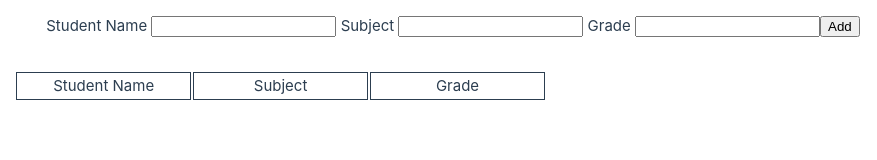
Test: App › Test student name, subject and grade
Step 1. Type "Pedro" into the field with id "name" → [244, 26], box [151,16,336,37]
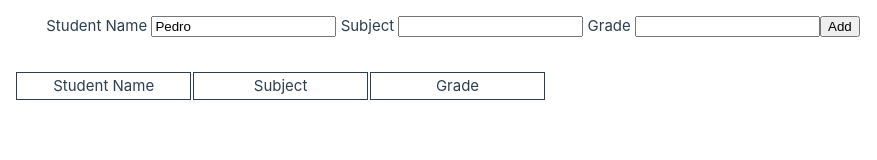
Step 2. Type "Biologia" into the field with id "subject" → [491, 26], box [398,16,583,37]
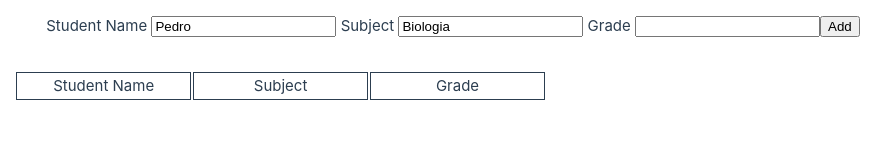
Step 3. Type "14" into the number field with id "grade" → [728, 26], box [635,16,820,37]
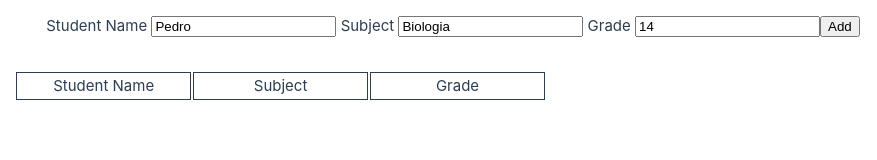
Step 4. Submit the form from the button with id "student-submit", box [820,16,860,37]
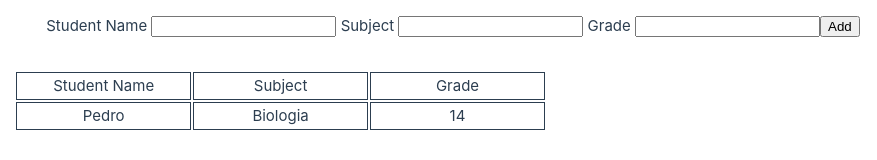
Expected: the cell with id "name0" reads "Pedro", [83,106,125,125]
Expected: the cell with id "subject0" reads "Biologia", [252,106,309,125]
